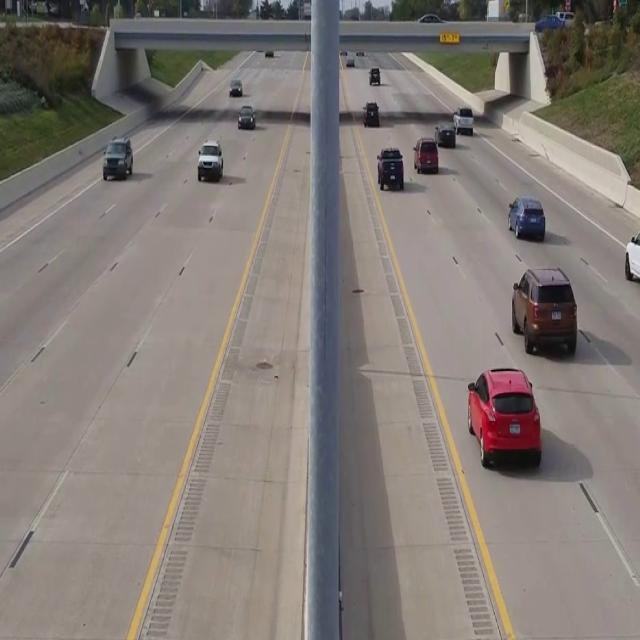car: (467, 366, 541, 468), (511, 266, 577, 356), (508, 195, 545, 241), (102, 136, 132, 180), (376, 147, 404, 190), (624, 226, 640, 296), (196, 141, 222, 181), (413, 137, 439, 173), (453, 107, 473, 134), (434, 123, 455, 147), (237, 104, 256, 128), (362, 101, 378, 125), (229, 79, 242, 96)
